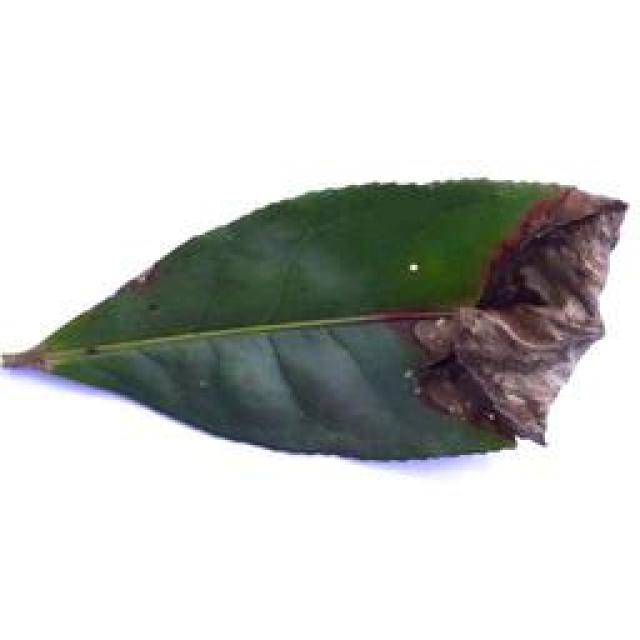Brown Blight: (2, 177, 640, 465)
